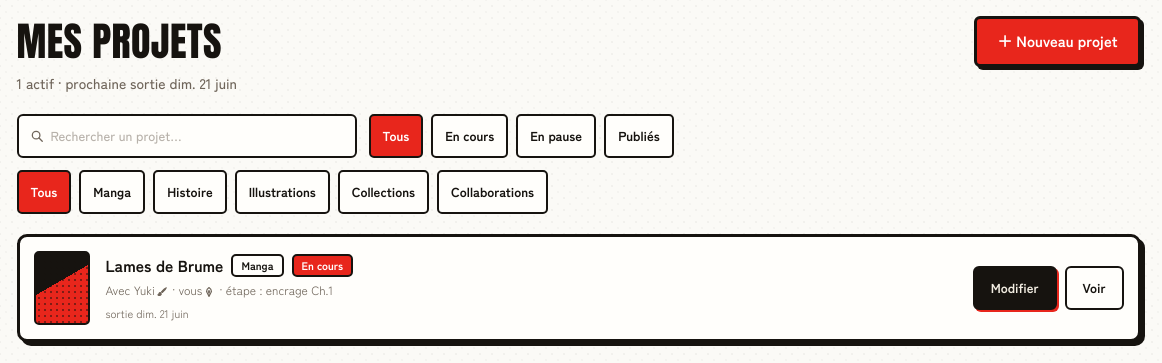
Scenario: ProjetsClient (CS-12) › debounces the search input then refetches with q, and shows "Aucun résultat" when filtered empty
The image size is (1162, 363).
Type "zzz" into the field labelled "Rechercher un projet…" at (197, 136), box [50,126,344,145]
Wait 400 ms
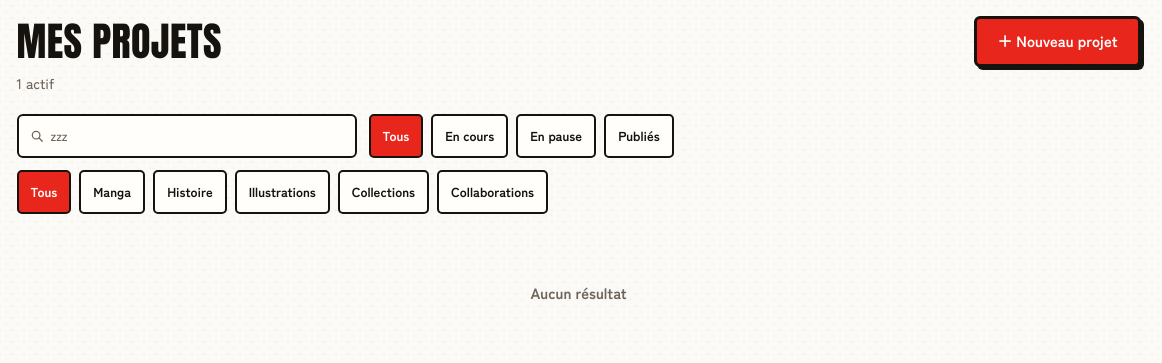
expect the text "Aucun résultat" is shown: met, box [530,282,626,302]
